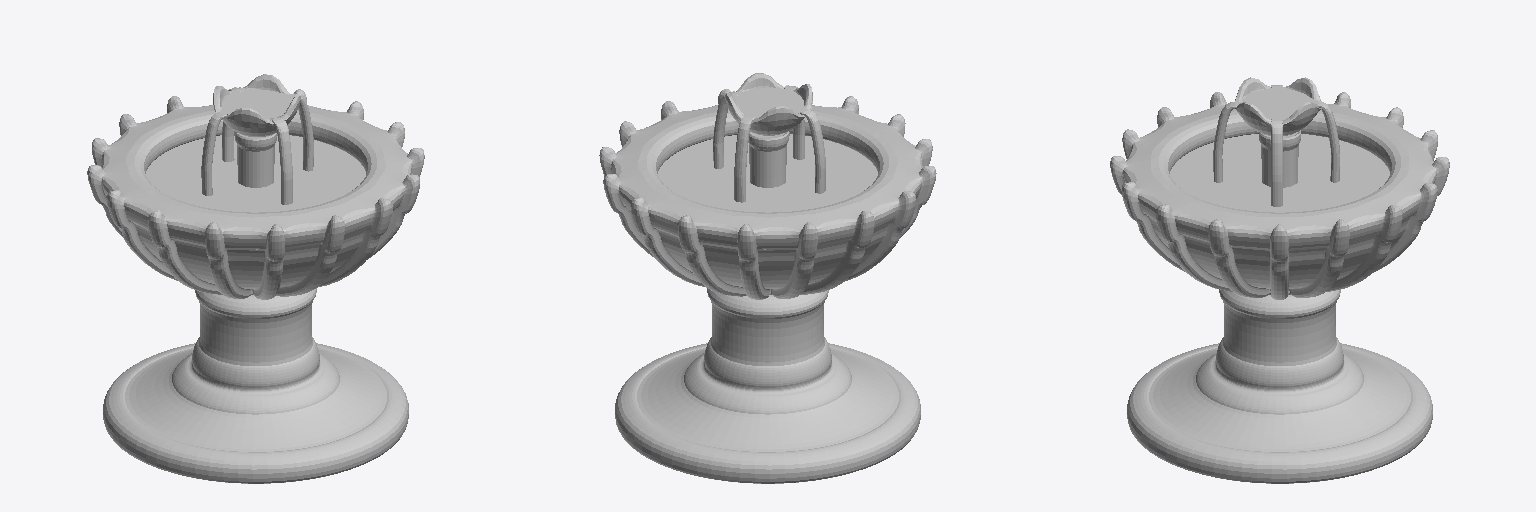
File: fontaine old.obj
3 renders of one model, left to right at view 1: azimuth 30°, elevation 25°; view 2: azimuth 150°, elevation 25°; view 3: azimuth 270°, elevation 25°, orthographic.
Parts seen in each view (by area): view 1: cylinder12, cylinder12_sep5, cylinder16, sphere7, sphere7_sep13; view 2: cylinder12, cylinder12_sep5, cylinder16, sphere7, sphere7_sep13; view 3: cylinder12, cylinder12_sep5, cylinder16, sphere7, sphere7_sep13.
Boxes of the visible parts, <box> form: cylinder12: <box>103,288,408,483</box>; cylinder12_sep5: <box>87,87,424,299</box>; cylinder16: <box>146,88,365,212</box>; sphere7: <box>201,87,313,204</box>; sphere7_sep13: <box>213,74,300,136</box>; cylinder12: <box>615,288,920,483</box>; cylinder12_sep5: <box>599,89,936,299</box>; cylinder16: <box>658,88,877,212</box>; sphere7: <box>713,85,825,202</box>; sphere7_sep13: <box>725,73,812,135</box>; cylinder12: <box>1127,289,1432,483</box>; cylinder12_sep5: <box>1110,92,1449,299</box>; cylinder16: <box>1170,87,1389,212</box>; sphere7: <box>1213,85,1339,206</box>; sphere7_sep13: <box>1234,77,1321,135</box>.
Bounding box in the file's own units: 2.25 × 2.41 × 2.25.